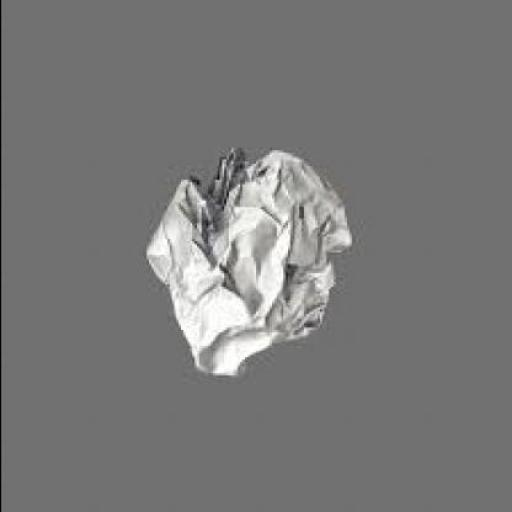paper: (141, 148, 350, 380)
